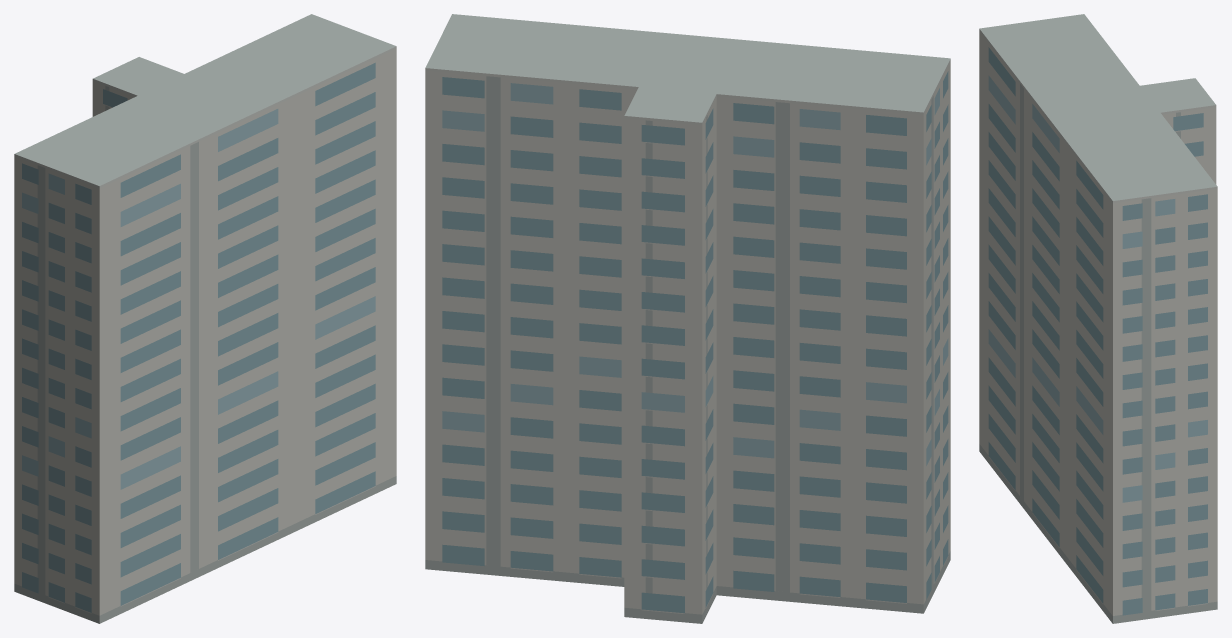
Rendered from residential-3cf1cb46-4733-4da9-80f2-e8c96ef5b9bc.glb.
3 renders of one model, left to right at view 1: azimuth 30°, elevation 25°; view 2: azimuth 150°, elevation 25°; view 3: azimuth 270°, elevation 25°, orthographic. The views are drawn at different scales.
Parts seen in each view (by area): view 1: residential-3cf1cb46-4733-4da9-80f2-e8c96ef5b9bc.tmp; view 2: residential-3cf1cb46-4733-4da9-80f2-e8c96ef5b9bc.tmp; view 3: residential-3cf1cb46-4733-4da9-80f2-e8c96ef5b9bc.tmp.
Part boxes in pixels (<box>): residential-3cf1cb46-4733-4da9-80f2-e8c96ef5b9bc.tmp: <box>14,14,396,623</box>; residential-3cf1cb46-4733-4da9-80f2-e8c96ef5b9bc.tmp: <box>425,14,950,623</box>; residential-3cf1cb46-4733-4da9-80f2-e8c96ef5b9bc.tmp: <box>979,14,1217,623</box>.
Size of the model in its own units: 43.44 by 45.75 by 23.39.
